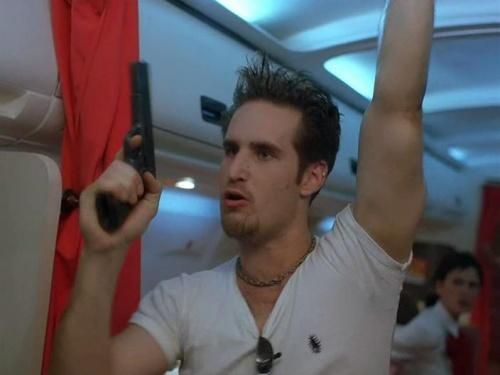Gun: (94, 59, 159, 235)
